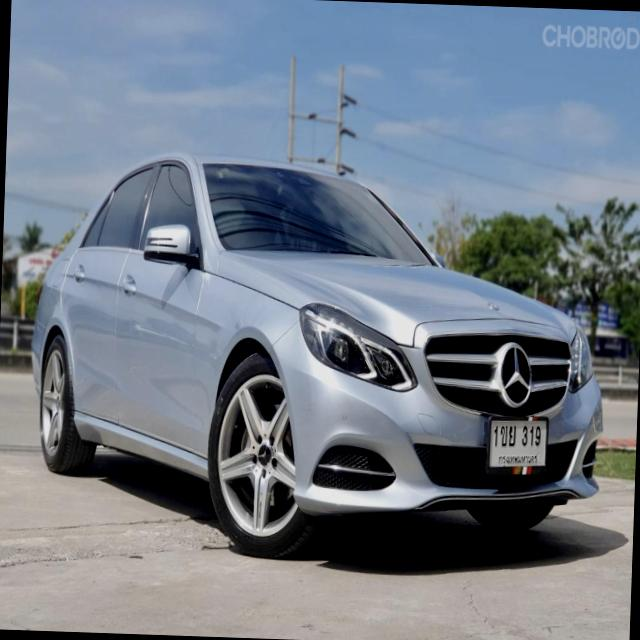license_plate: (483, 414, 550, 472)
